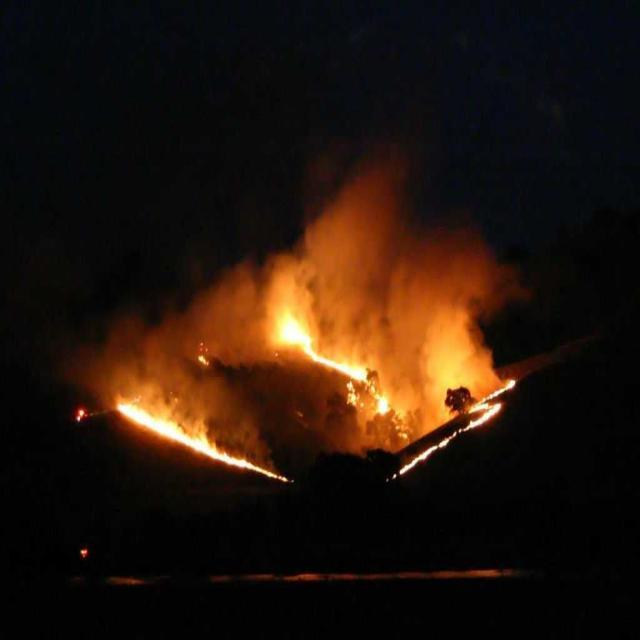Fire: (126, 402, 173, 438), (280, 317, 310, 352), (194, 441, 228, 462)
